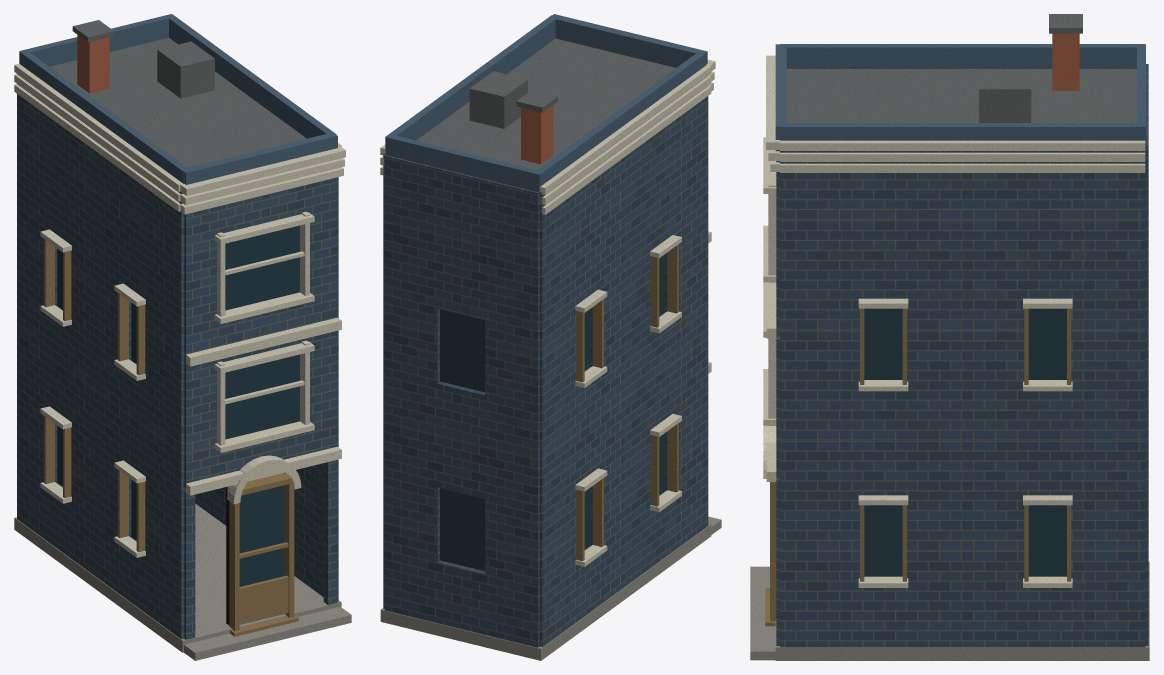
Rendered from OFFC11_lod2.glb.
3 renders of one model, left to right at view 1: azimuth 30°, elevation 25°; view 2: azimuth 150°, elevation 25°; view 3: azimuth 270°, elevation 25°, orthographic. The views are drawn at different scales.
Parts seen in each view (by area): view 1: OFFC11_LOD2; view 2: OFFC11_LOD2; view 3: OFFC11_LOD2.
Part boxes in pixels (bbox=[...]): OFFC11_LOD2: bbox=[14, 14, 351, 660]; OFFC11_LOD2: bbox=[380, 14, 721, 660]; OFFC11_LOD2: bbox=[750, 14, 1149, 660].
Size of the model in its own units: 3.71 by 10.45 by 6.57.
9 materials, 7 textured.
